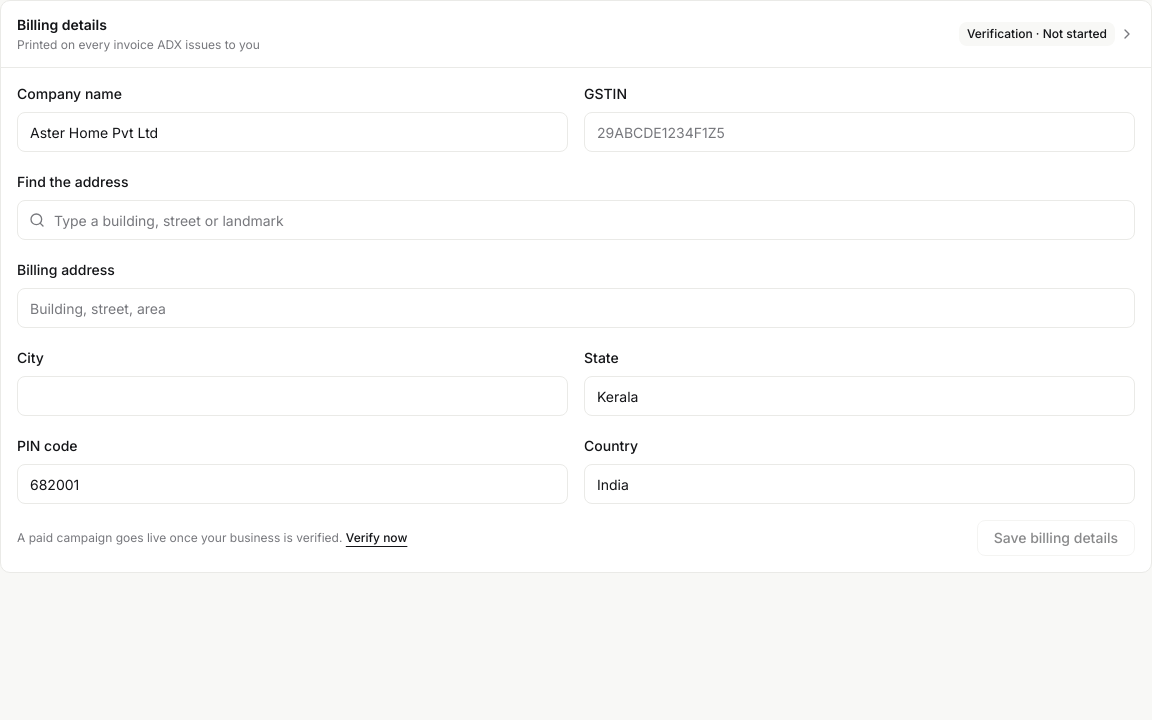
Billing details card — the bar over plain boxes › never clears a box the place does not name
Step 1. Type "Whitefield" into the dropdown labelled "Find the address" → (576, 220), box [17,200,1135,240]
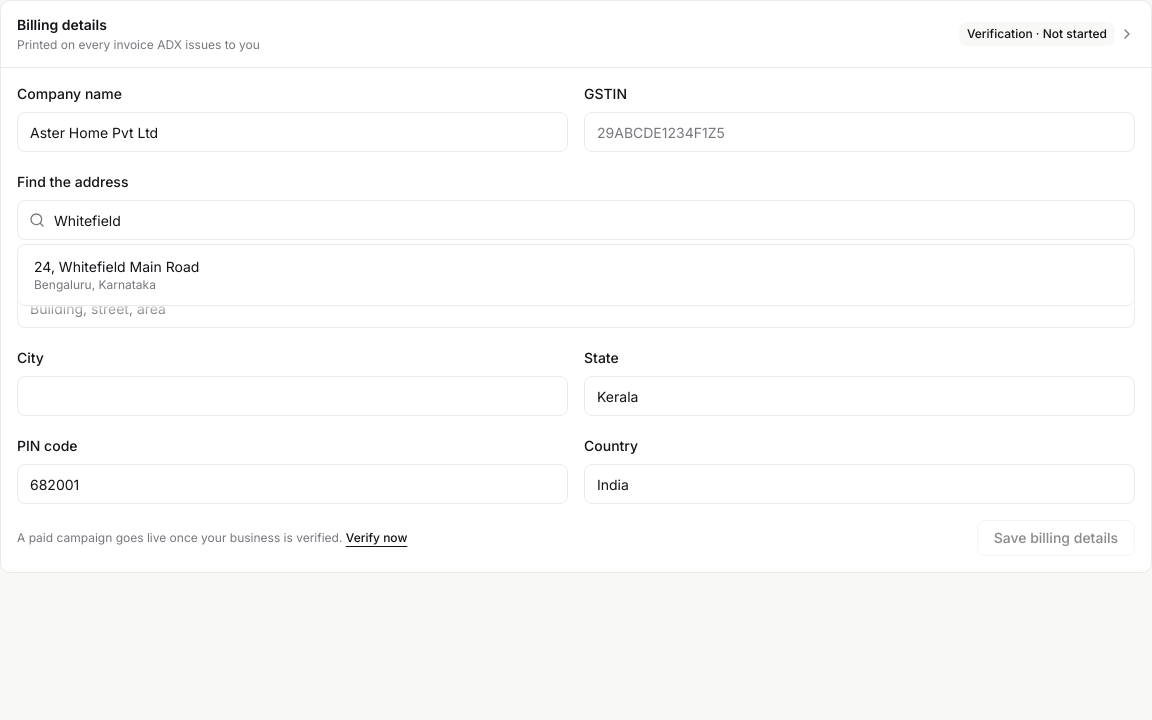
Step 2. Click the option "24, Whitefield Main Road Bengaluru, Karnataka" → (117, 266), box [22,249,1130,301]
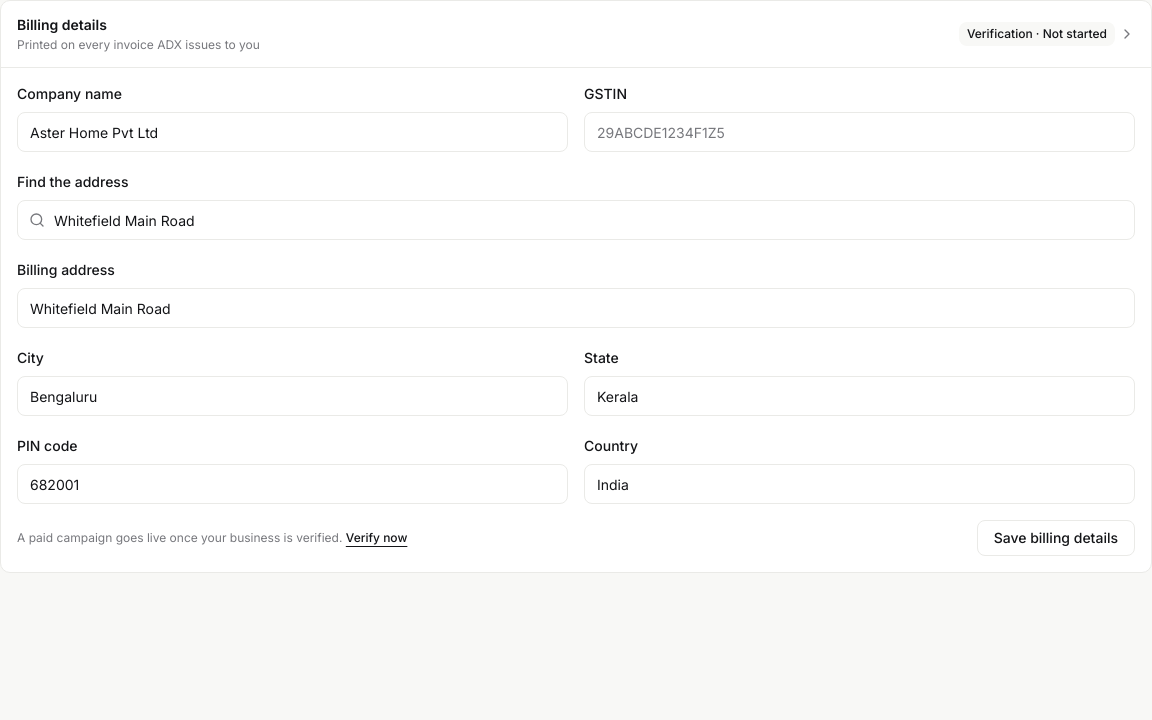
Expected: the field labelled "State" holds "Kerala", [584,376,1135,416]
Expected: the field labelled "Billing address" holds "Whitefield Main Road", [17,288,1135,328]
